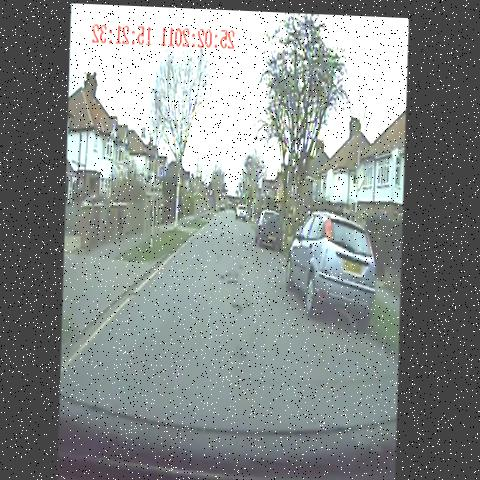pothole: (216, 253, 250, 290), (228, 284, 256, 320), (231, 336, 254, 363), (214, 220, 232, 245)
